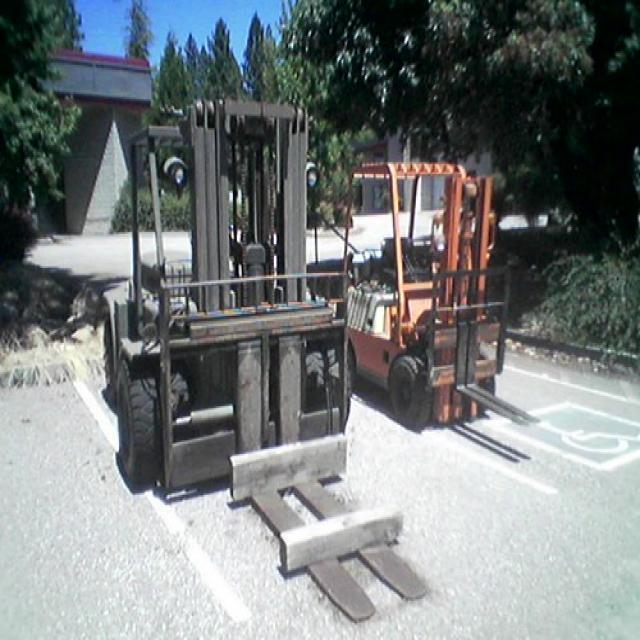forklift: (98, 92, 354, 499), (354, 164, 502, 429)
